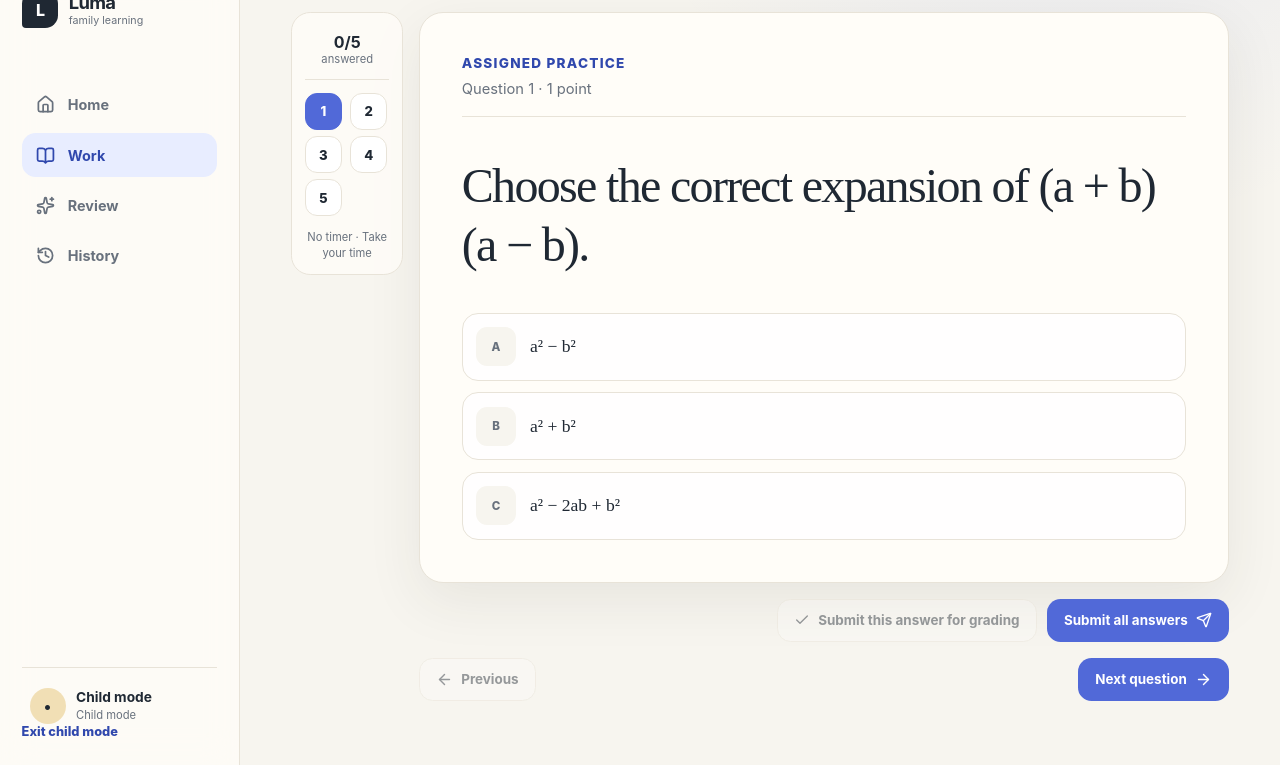
Test: WorksheetWorkbench › plays private listening audio only after the server records a replay
The width and height of the screenshot is (1280, 765).
(page scrolled)
Expected: the heading "Choose the correct expansion of (a + b)(a − b)." is shown, [462,157,1186,274]
Click the button "Next question". click: (1154, 679)
box: [1078,658,1229,701]
(page scrolled)
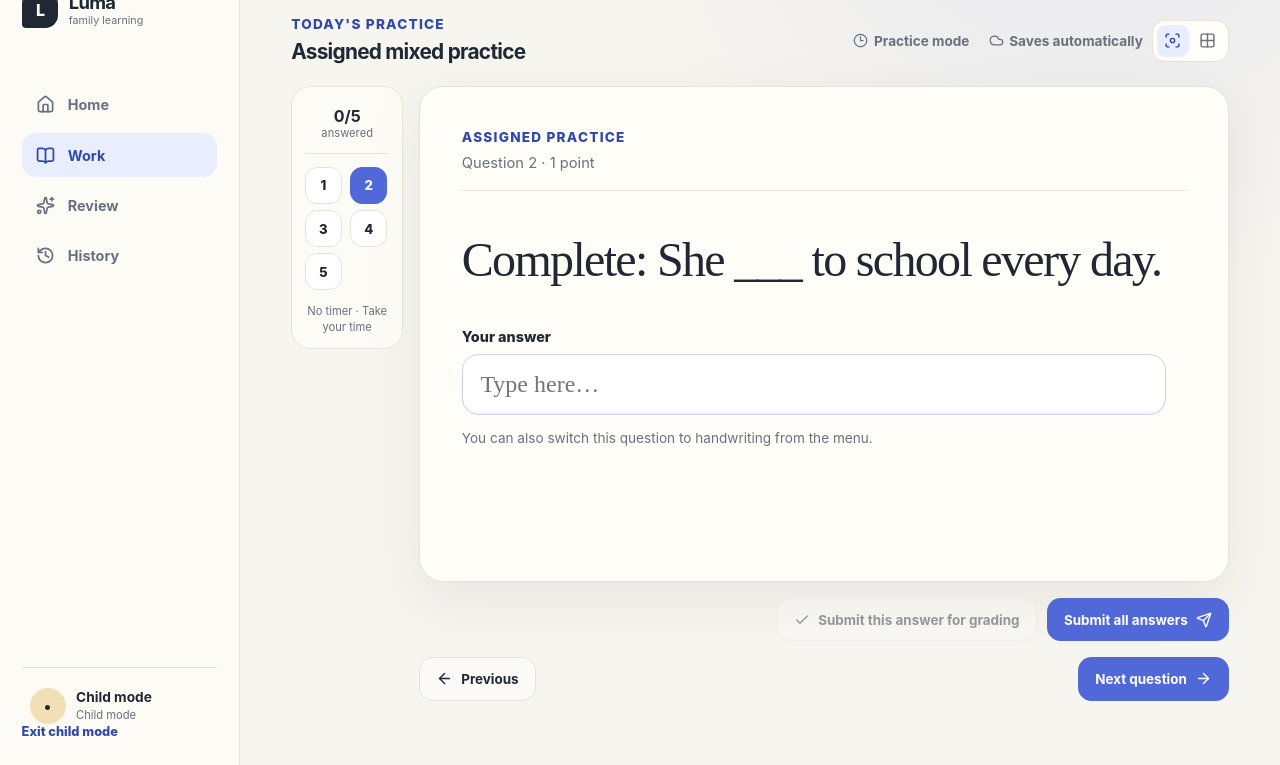
Click the button "Next question". click: (1154, 679)
box: [1078,657,1229,700]
(page scrolled)
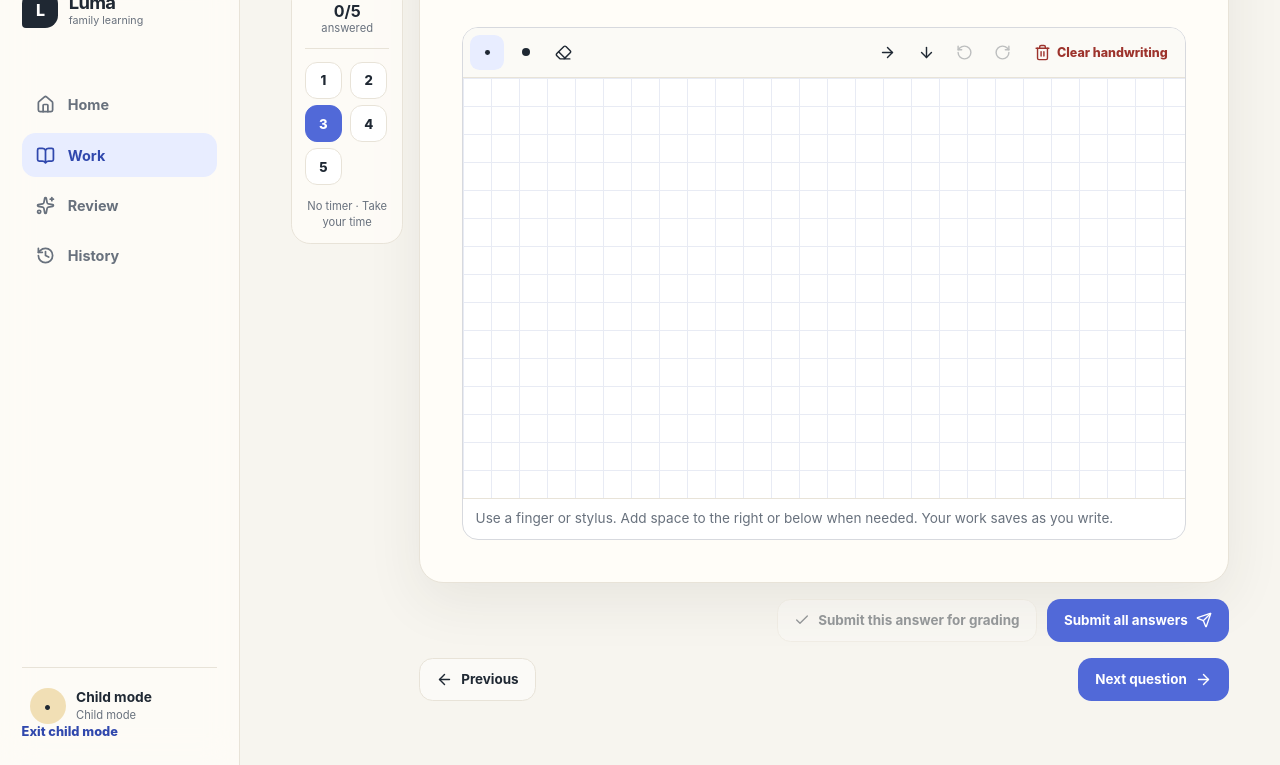
Click the button "Next question". click: (1154, 679)
box: [1078,658,1229,701]
(page scrolled)
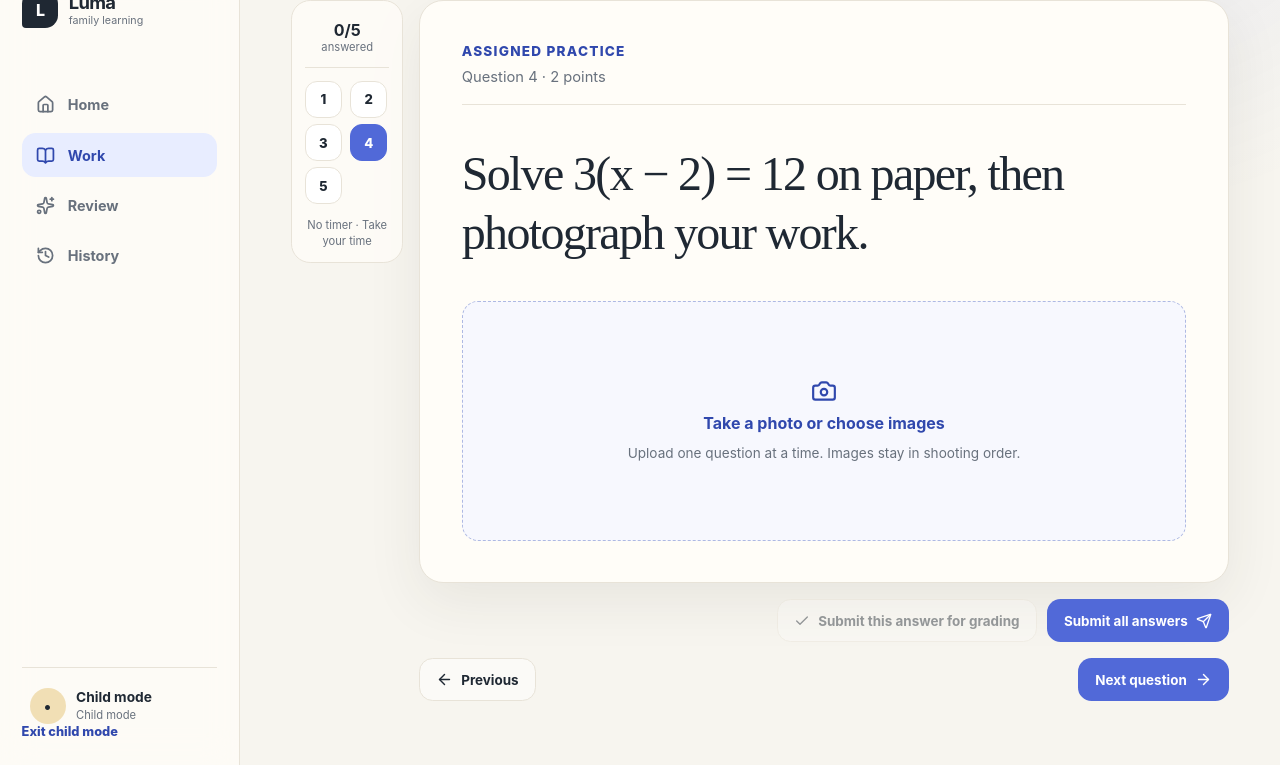
Click the button "Next question". click: (1154, 680)
box: [1078,658,1229,702]
(page scrolled)
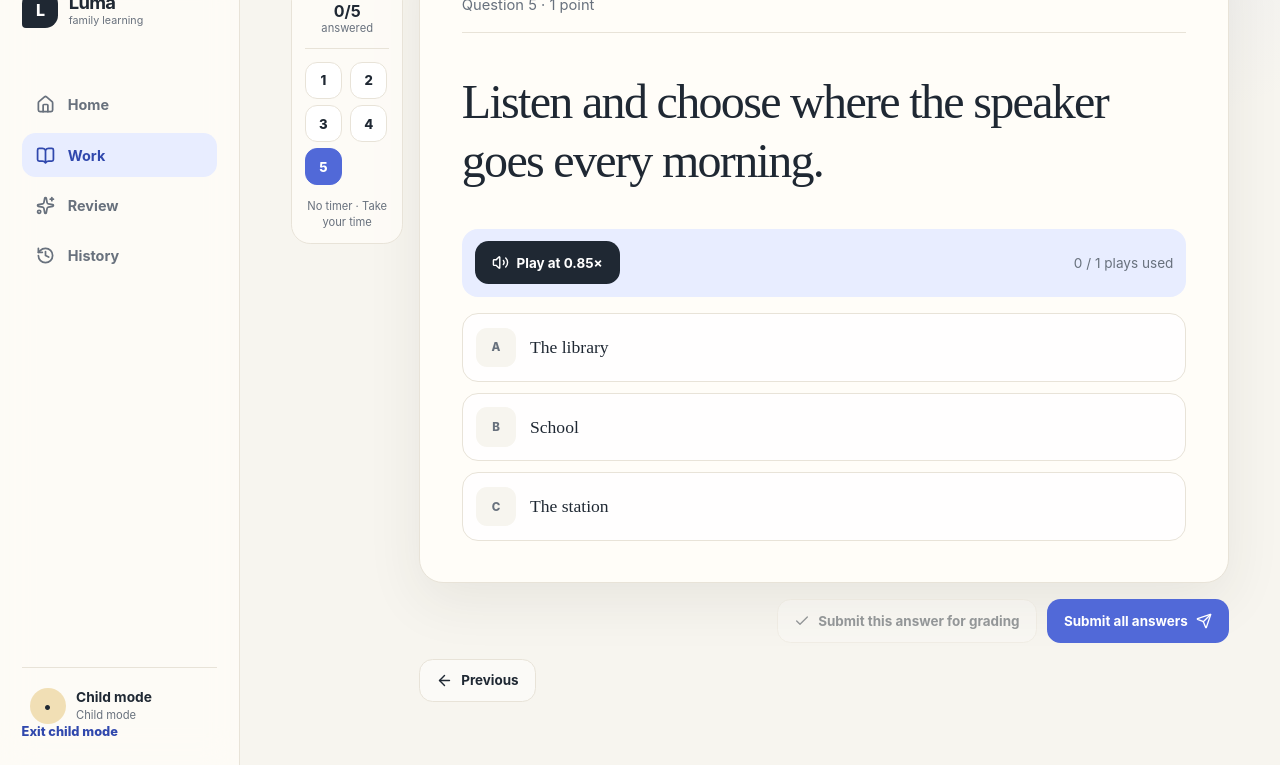
Click the button "Play at 0.85×". click: (547, 263)
box: [475,241,620,284]
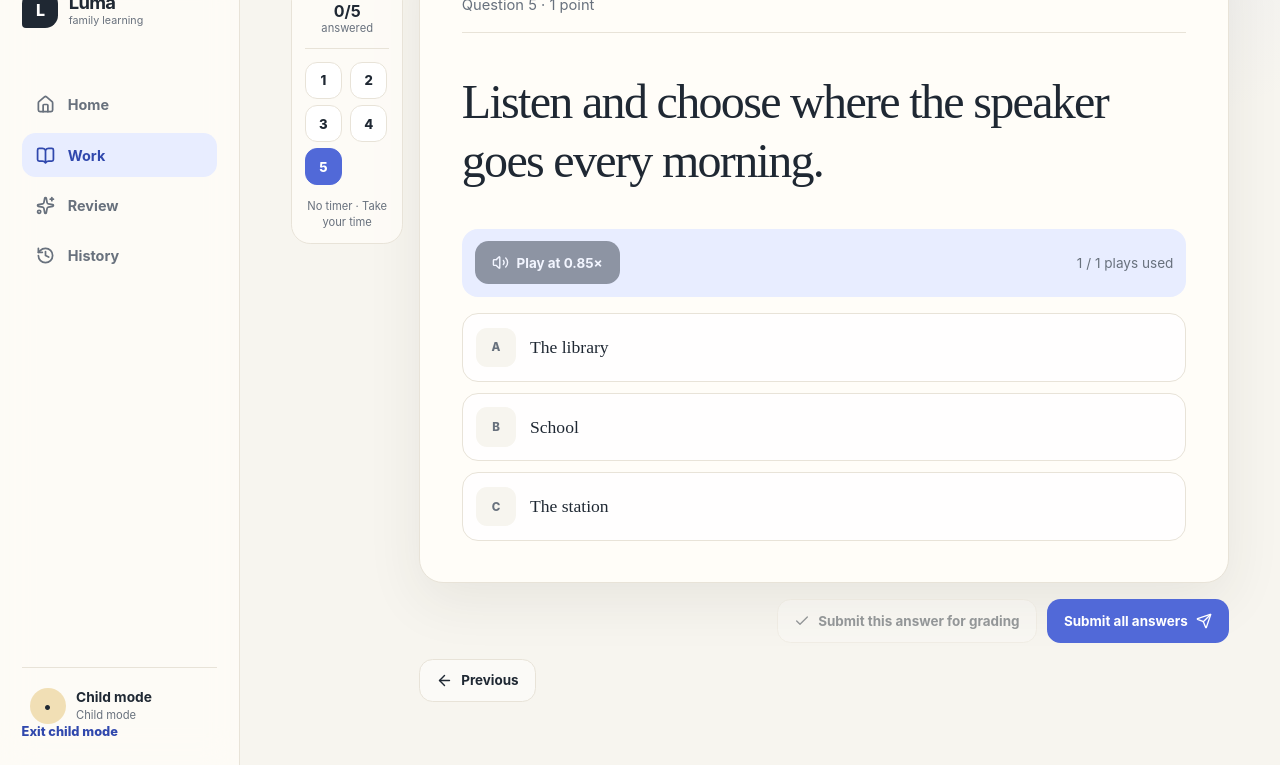
Now the button "Play at 0.85×" is disabled, box [475,241,620,284]
